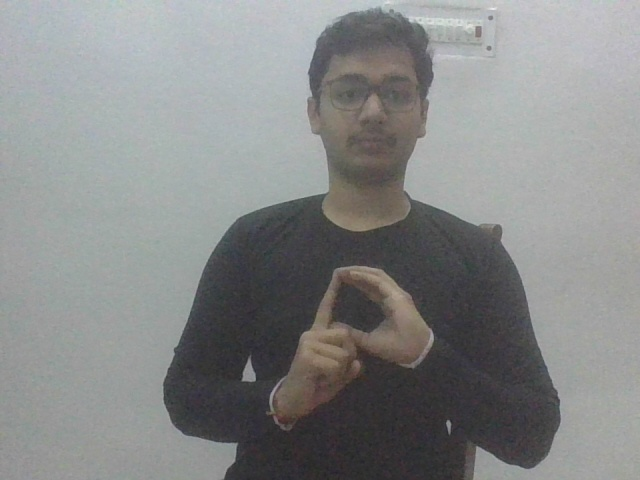D: (275, 262, 436, 431)
